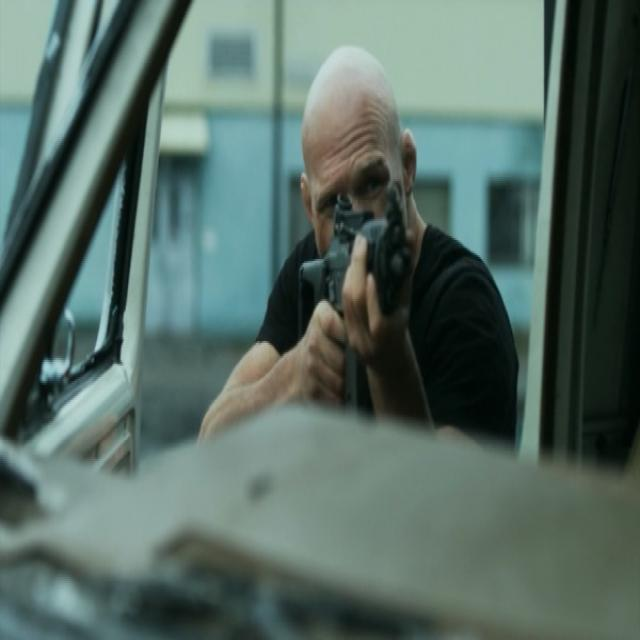rifle: (295, 172, 415, 426)
